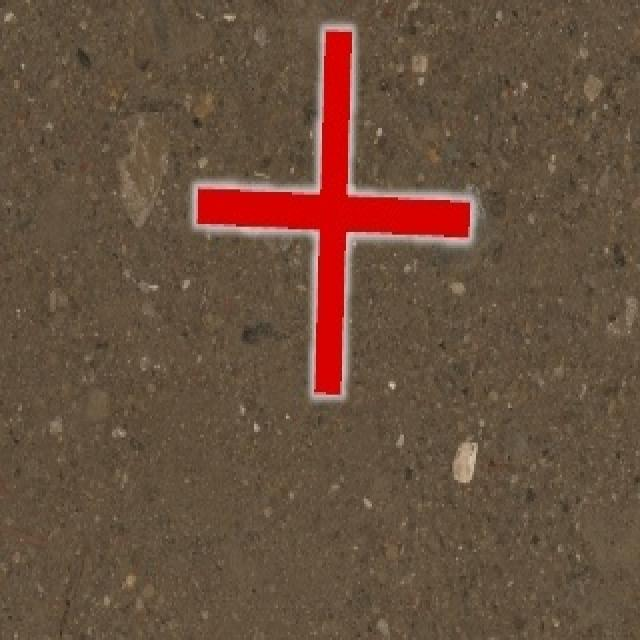x_marker: (195, 28, 471, 393)
